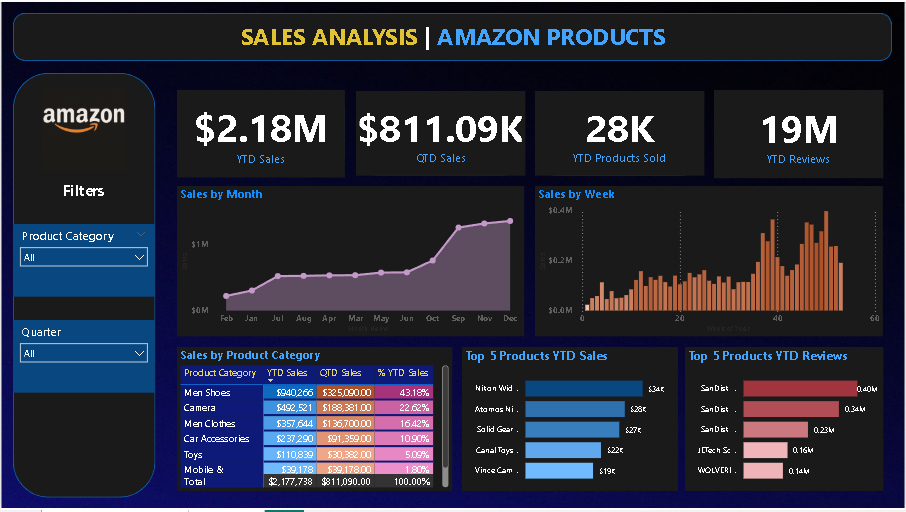

What the dashboard file says about the page in this screenshot:
{"tool":"powerbi","page":{"name":"Amazon Dashboard","canvas":[1280,720],"ordinal":0},"visuals":[{"type":"shape","box":[16.9,15.3,1245.8,67.8],"z":0},{"type":"textbox","box":[311.9,20.3,657.6,55.9],"z":1000},{"type":"shape","box":[16.7,100,201.7,601.7],"z":2000},{"type":"image","box":[17,116.2,201.3,129],"z":3000},{"type":"shape","box":[250,126.7,238,120],"z":4000},{"type":"shape","box":[503.2,126.7,238.3,120],"z":5000},{"type":"shape","box":[756.8,126.7,238,120],"z":6000},{"type":"shape","box":[1010,126.7,239,119],"z":7000},{"type":"card","fields":{"Values":["Measures_Table.YTD Sales"]},"box":[249.7,124.1,238.3,124.1],"z":8000},{"type":"card","fields":{"Values":["Measures_Table.QTD Sales"]},"box":[503.1,126.1,239.5,120.5],"z":9000},{"type":"card","fields":{"Values":["Measures_Table.YTD Reviews"]},"box":[1010.6,124.7,239.5,124.7],"z":10000},{"type":"card","fields":{"Values":["Measures_Table.YTD Products Sold"]},"box":[756.9,126.1,239.5,120.5],"z":11000},{"type":"areaChart","title":"Sales by Month","fields":{"Y":["Measures_Table.Sales"],"Category":["Calender.Month Name"]},"box":[249.4,260.8,491.8,212.6],"z":12000},{"type":"columnChart","title":"Sales by Week","fields":{"Y":["Measures_Table.Sales"],"Category":["Calender.Week of Year"]},"box":[756.9,260.8,493.2,212.6],"z":13000},{"type":"pivotTable","title":"Sales by Product Category","fields":{"Rows":["Amazon_Data.Product Category"],"Values":["Measures_Table.YTD Sales","Measures_Table.QTD Sales","Divide(Measures_Table.YTD Sales, ScopedEval(Measures_Table.YTD Sales, []))"]},"box":[249.4,489,389.8,204.1],"z":14000},{"type":"clusteredBarChart","title":"Top 5 Products YTD Sales","fields":{"Y":["Measures_Table.YTD Sales"],"Category":["Amazon_Data.Product Description"]},"box":[653.4,489,306.1,204.1],"z":14001},{"type":"clusteredBarChart","title":"Top 5 Products YTD Reviews","fields":{"Category":["Amazon_Data.Product Description"],"Y":["Measures_Table.YTD Reviews"]},"box":[969.4,489,280.6,204.1],"z":14002},{"type":"textbox","box":[36.9,246.6,160.2,45.4],"z":14003},{"type":"slicer","fields":{"Values":["Amazon_Data.Product Category"]},"box":[17,314.6,201.3,103.5],"z":14004},{"type":"slicer","fields":{"Values":["Calender.Quarter"]},"box":[17,450.7,201.3,103.5],"z":14006}]}

Visuals, with their boxes in screenshot pixels (x1, y1, x2, y2), scaled from the page's 1280x720 canvas onto the 906x512 screenshot:
shape: (12, 11, 894, 59)
textbox: (221, 14, 686, 54)
shape: (12, 71, 155, 499)
image: (12, 83, 155, 174)
shape: (177, 90, 345, 175)
shape: (356, 90, 525, 175)
shape: (536, 90, 704, 175)
shape: (715, 90, 884, 175)
card - Measures_Table.YTD Sales: (177, 88, 345, 176)
card - Measures_Table.QTD Sales: (356, 90, 526, 175)
card - Measures_Table.YTD Reviews: (715, 89, 885, 177)
card - Measures_Table.YTD Products Sold: (536, 90, 705, 175)
"Sales by Month" areaChart: (177, 185, 525, 337)
"Sales by Week" columnChart: (536, 185, 885, 337)
"Sales by Product Category" pivotTable: (177, 348, 452, 493)
"Top 5 Products YTD Sales" clusteredBarChart: (462, 348, 679, 493)
"Top 5 Products YTD Reviews" clusteredBarChart: (686, 348, 885, 493)
textbox: (26, 175, 140, 208)
slicer - Amazon_Data.Product Category: (12, 224, 155, 297)
slicer - Calender.Quarter: (12, 320, 155, 394)
